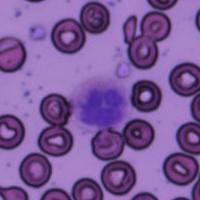N: (70, 76, 130, 131)
